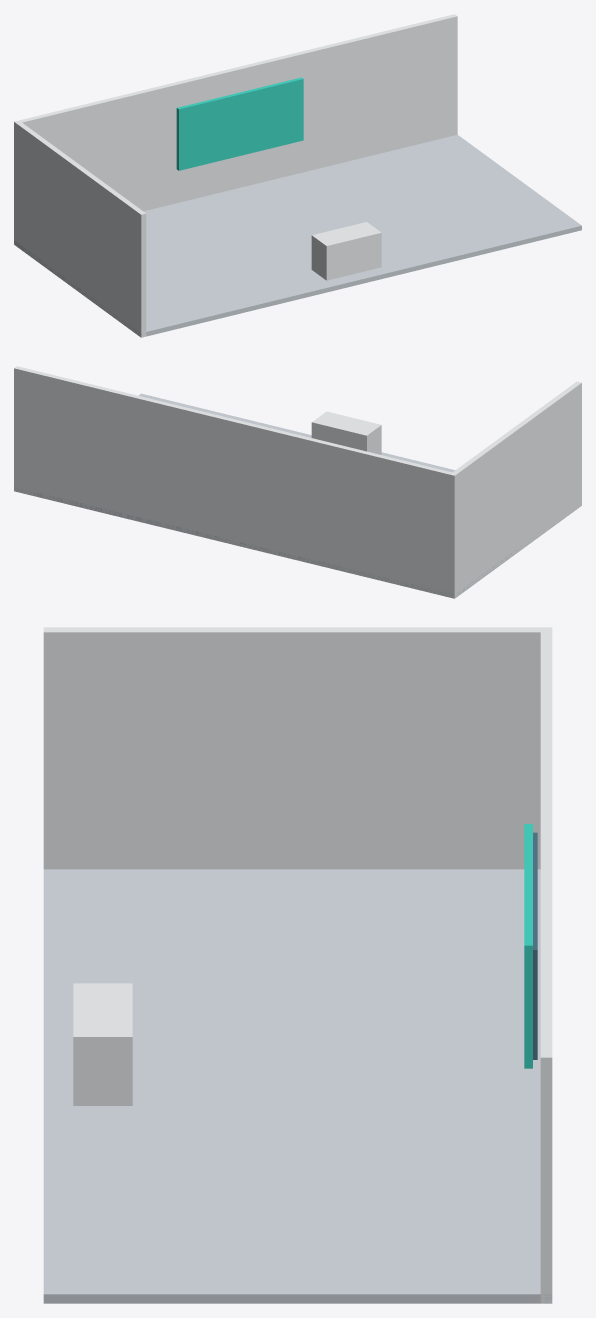
3 views of the same model, one above another, from view 1: azimuth 30°, elevation 25°; view 2: azimuth 150°, elevation 25°; view 3: azimuth 270°, elevation 25° (orthographic). The views are drawn at different scales.
Parts seen in each view (by area): view 1: Exhibition Booth Concept; view 2: Exhibition Booth Concept; view 3: Exhibition Booth Concept.
Part boxes in pixels (x1=…): Exhibition Booth Concept: x1=14, y1=14, x2=581, y2=337; Exhibition Booth Concept: x1=14, y1=366, x2=581, y2=598; Exhibition Booth Concept: x1=43, y1=627, x2=552, y2=1303.
Bounding box in the file's own units: 12 × 3.2 × 6.
